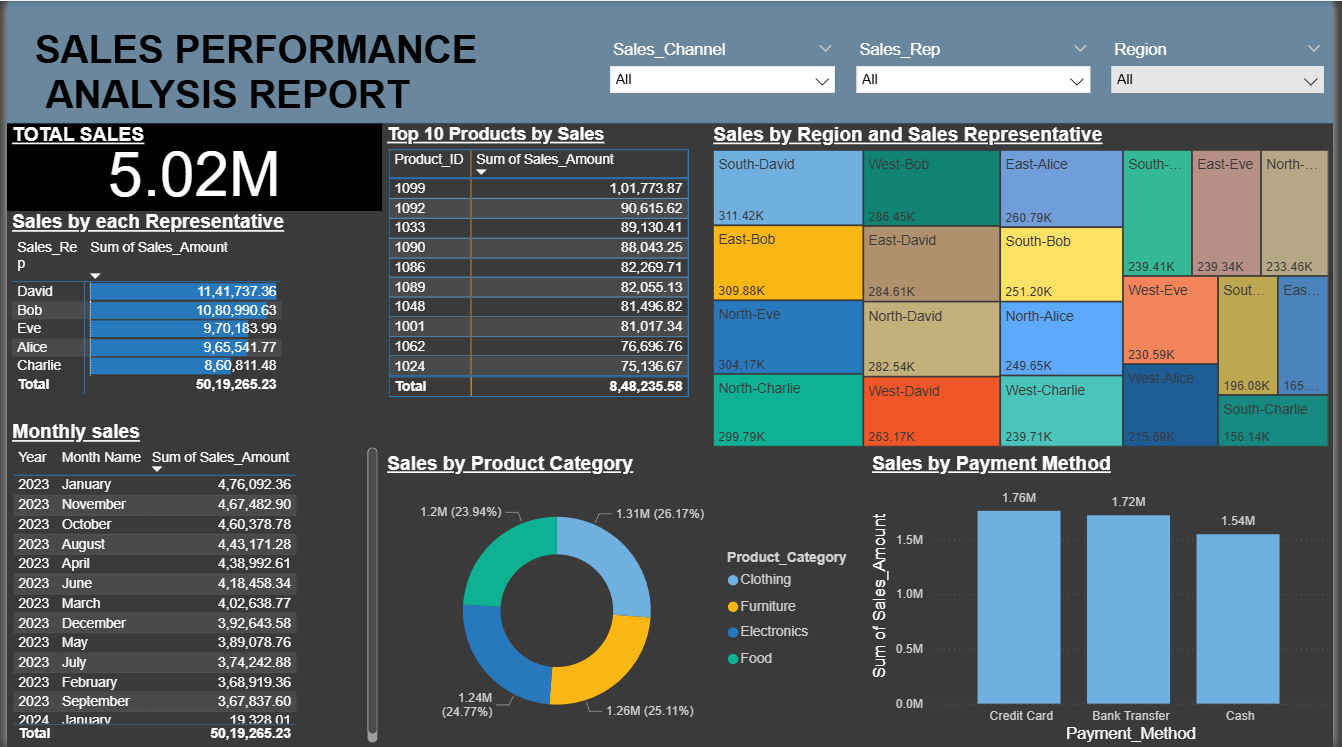

The dashboard page shown, as its layout file describes it:
{"tool":"powerbi","page":{"name":"Page 2","canvas":[1280,720],"ordinal":0},"visuals":[{"type":"textbox","box":[10,0,280,280],"z":0},{"type":"shape","box":[0,0,1280.3,118],"z":1000},{"type":"card","title":"TOTAL  SALES","fields":{"Values":["sales_data.Sales_Amount"]},"box":[0,118,362.3,85.1],"z":2000},{"type":"clusteredColumnChart","title":"Sales by Payment Method","fields":{"Y":["sales_data.Sales_Amount"],"Category":["sales_data.Payment_Method"]},"box":[830.2,435,450.1,285.4],"z":3000},{"type":"donutChart","title":"Sales by Product Category","fields":{"Category":["sales_data.Product_Category"],"Y":["sales_data.Sales_Amount"]},"box":[362.3,435,467.9,285.4],"z":4000},{"type":"tableEx","title":"Top 10 Products by Sales","fields":{"Values":["sales_data.Product_ID","sales_data.Sales_Amount"]},"box":[362.3,118,314.2,286.8],"z":5000},{"type":"pivotTable","title":"Sales by each Representative","fields":{"Rows":["sales_data.Sales_Rep"],"Values":["sales_data.Sales_Amount"]},"box":[0,203.1,362.3,201.7],"z":6000},{"type":"treemap","title":"Sales by Region and Sales Representative","fields":{"Group":["sales_data.Region_and_Sales_Rep"],"Values":["sales_data.Sales_Amount"]},"box":[676.5,118,603.8,317],"z":7000},{"type":"slicer","fields":{"Values":["sales_data.Region"]},"box":[1055.2,32.9,225,85.1],"z":8000},{"type":"tableEx","title":"Monthly sales","fields":{"Values":["sales_data.Year","sales_data.Month Name","sales_data.Sales_Amount"]},"box":[0,404.8,362.3,315.6],"z":9000},{"type":"textbox","box":[22,20.6,680.6,97.4],"z":10000},{"type":"slicer","fields":{"Values":["sales_data.Sales_Rep"]},"box":[809.6,32.9,245.6,85.1],"z":11000},{"type":"slicer","fields":{"Values":["sales_data.Sales_Channel"]},"box":[572.2,32.9,237.4,85.1],"z":11001}]}

Visuals, with their boxes in screenshot pixels (x1, y1, x2, y2), scaled from the page's 1280x720 canvas onto the 1342x747 screenshot:
textbox: bbox=(10, 0, 304, 290)
shape: bbox=(0, 0, 1341, 122)
"TOTAL  SALES" card: bbox=(0, 122, 380, 211)
"Sales by Payment Method" clusteredColumnChart: bbox=(870, 451, 1341, 746)
"Sales by Product Category" donutChart: bbox=(380, 451, 870, 746)
"Top 10 Products by Sales" tableEx: bbox=(380, 122, 709, 420)
"Sales by each Representative" pivotTable: bbox=(0, 211, 380, 420)
"Sales by Region and Sales Representative" treemap: bbox=(709, 122, 1341, 451)
slicer - sales_data.Region: bbox=(1106, 34, 1341, 122)
"Monthly sales" tableEx: bbox=(0, 420, 380, 746)
textbox: bbox=(23, 21, 737, 122)
slicer - sales_data.Sales_Rep: bbox=(849, 34, 1106, 122)
slicer - sales_data.Sales_Channel: bbox=(600, 34, 849, 122)
